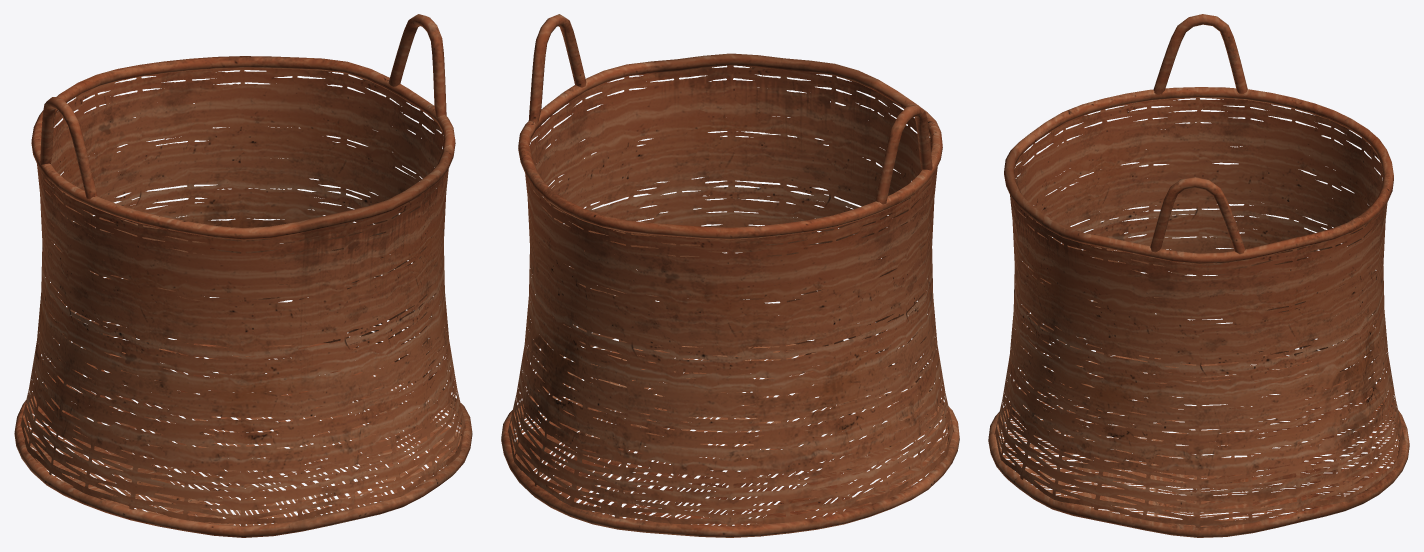
File: Wicker Basket 01.glb
The picture shows the model from 3 angles, left to right: view 1: azimuth 30°, elevation 25°; view 2: azimuth 150°, elevation 25°; view 3: azimuth 270°, elevation 25°; orthographic projection. The views are drawn at different scales.
Parts seen in each view (by area): view 1: low; view 2: low; view 3: low.
Part boxes in pixels (x1,y1,x2,y2): low: (14,14,472,537); low: (501,14,959,537); low: (988,14,1409,537).
Size of the model in its own units: 0.6369 by 0.5933 by 0.636.
Materials: 1 (1 with a texture image).
